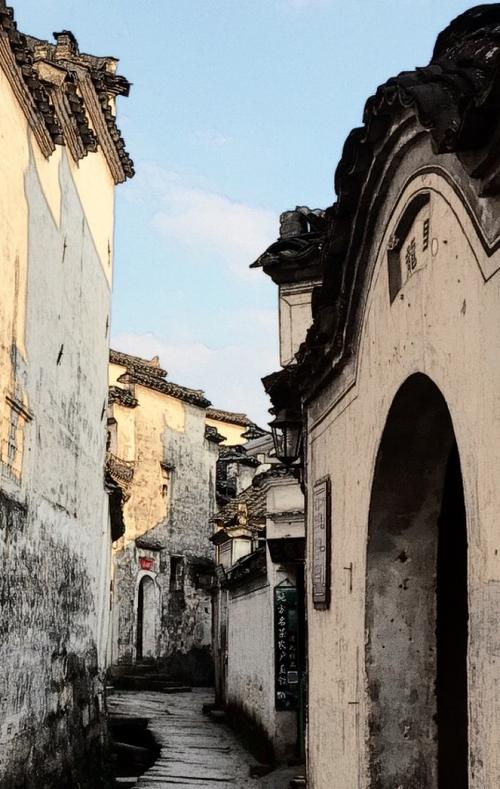buildings: (239, 50, 500, 766)
